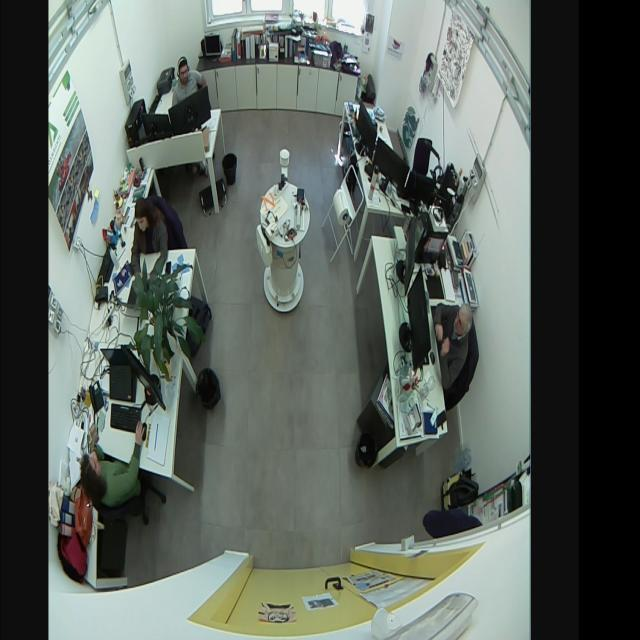Close: (234, 559, 364, 640)
Persona: (80, 422, 143, 509), (434, 305, 470, 390), (131, 198, 168, 276), (172, 56, 207, 106)
